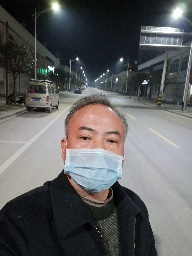correctlyWear: (60, 113, 128, 193)
